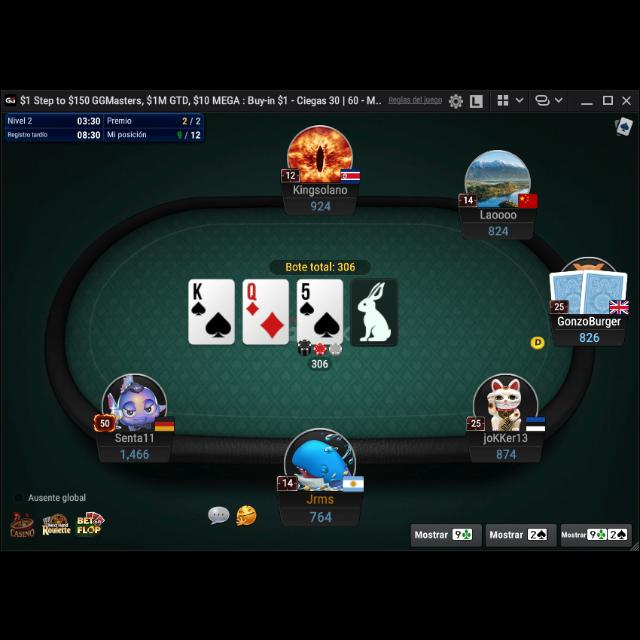5s: (298, 279, 316, 315)
Ks: (190, 280, 208, 314)
Qd: (245, 280, 261, 316)
card_back: (579, 263, 629, 313), (547, 264, 589, 312)
dealer: (529, 330, 547, 348)
pot_text: (284, 260, 356, 270)
stack_text: (118, 444, 152, 458), (308, 506, 334, 522), (578, 326, 602, 340), (487, 220, 509, 234), (310, 196, 332, 210), (497, 446, 518, 459)
